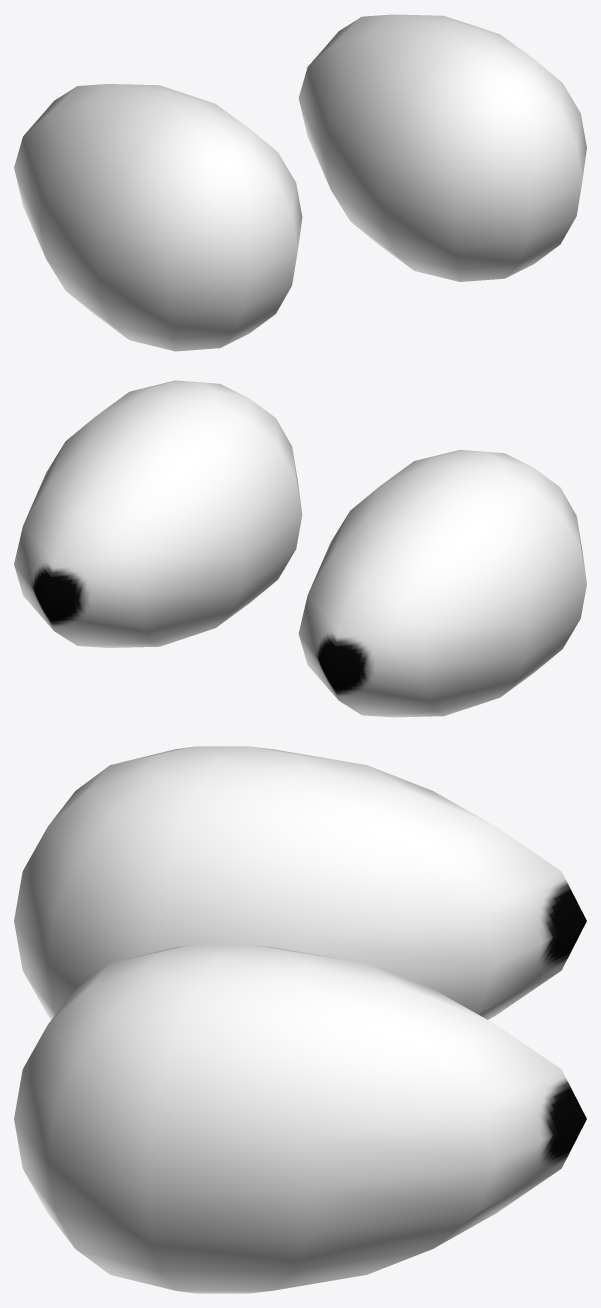
Rendered from eyepoppers.glb.
The picture shows the model from 3 angles, top to bottom: view 1: azimuth 30°, elevation 25°; view 2: azimuth 150°, elevation 25°; view 3: azimuth 270°, elevation 25°; orthographic projection. The views are drawn at different scales.
Parts seen in each view (by area): view 1: Sphere, Sphere.001; view 2: Sphere, Sphere.001; view 3: Sphere.001, Sphere.
Part boxes in pixels (left/top/right/bottom): Sphere: left=14, top=84, right=302, bottom=351; Sphere.001: left=298, top=14, right=586, bottom=281; Sphere: left=298, top=450, right=586, bottom=717; Sphere.001: left=14, top=380, right=302, bottom=647; Sphere.001: left=14, top=944, right=586, bottom=1293; Sphere: left=14, top=746, right=586, bottom=1019.
Bounding box in the file's own units: 0.5888 × 0.259 × 0.4187.
Materials: 1 (1 with a texture image).
